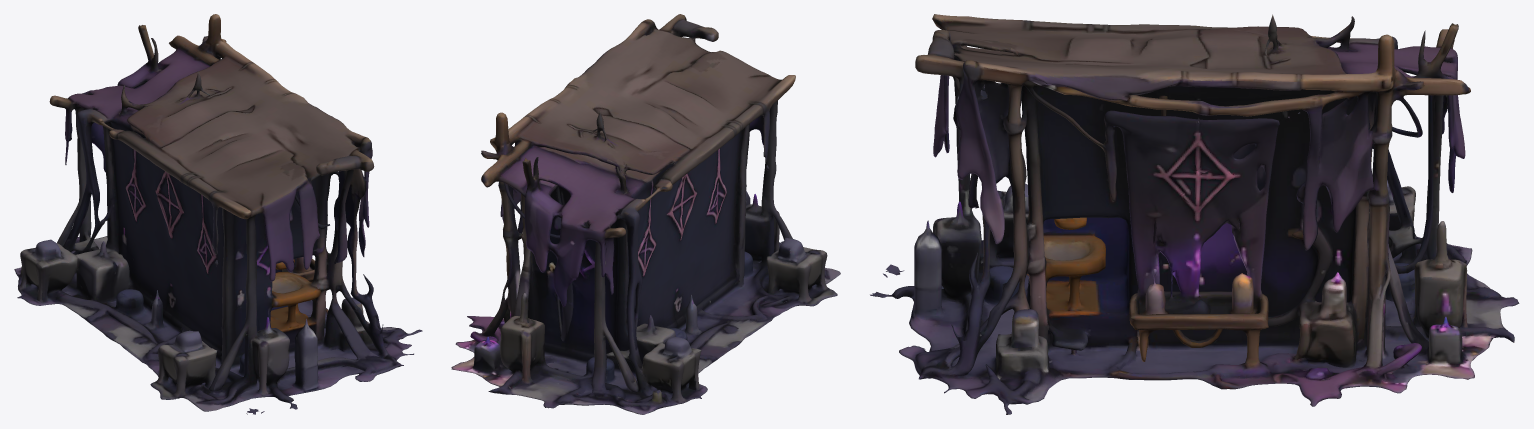
File: SM_Environment_DarkTentSanctuary_01.fbx
3 renders of one model, left to right at view 1: azimuth 30°, elevation 25°; view 2: azimuth 150°, elevation 25°; view 3: azimuth 270°, elevation 25°, orthographic. The views are drawn at different scales.
Visible parts, largest first — view 1: SM_Environment_DarkTentSanctuary_01; view 2: SM_Environment_DarkTentSanctuary_01; view 3: SM_Environment_DarkTentSanctuary_01.
Boxes of the visible parts, <box> form: SM_Environment_DarkTentSanctuary_01: <box>14,14,422,414</box>; SM_Environment_DarkTentSanctuary_01: <box>451,14,840,414</box>; SM_Environment_DarkTentSanctuary_01: <box>870,14,1519,414</box>.
Size of the model in its own units: 0.6618 by 0.5511 by 0.9807.
1 material, 1 textured.
